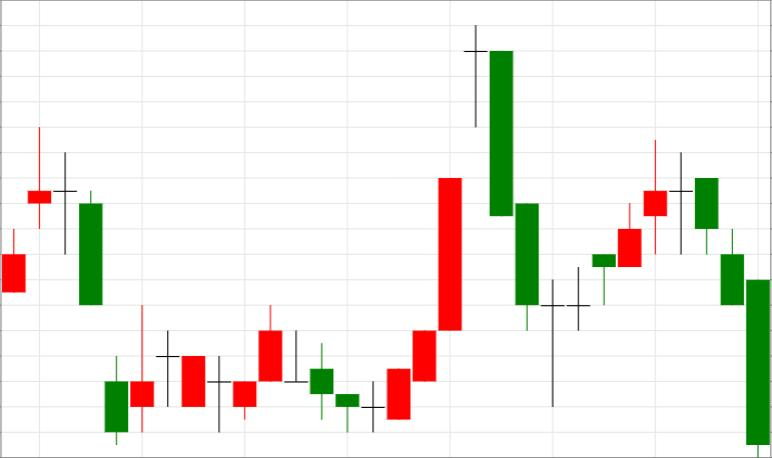evening_star_fall: (361, 26, 514, 432)
